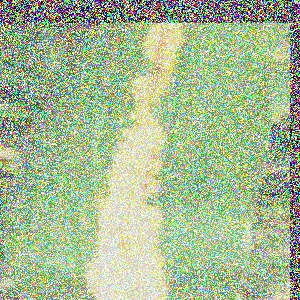Leaf_Blast: (47, 26, 258, 300)
